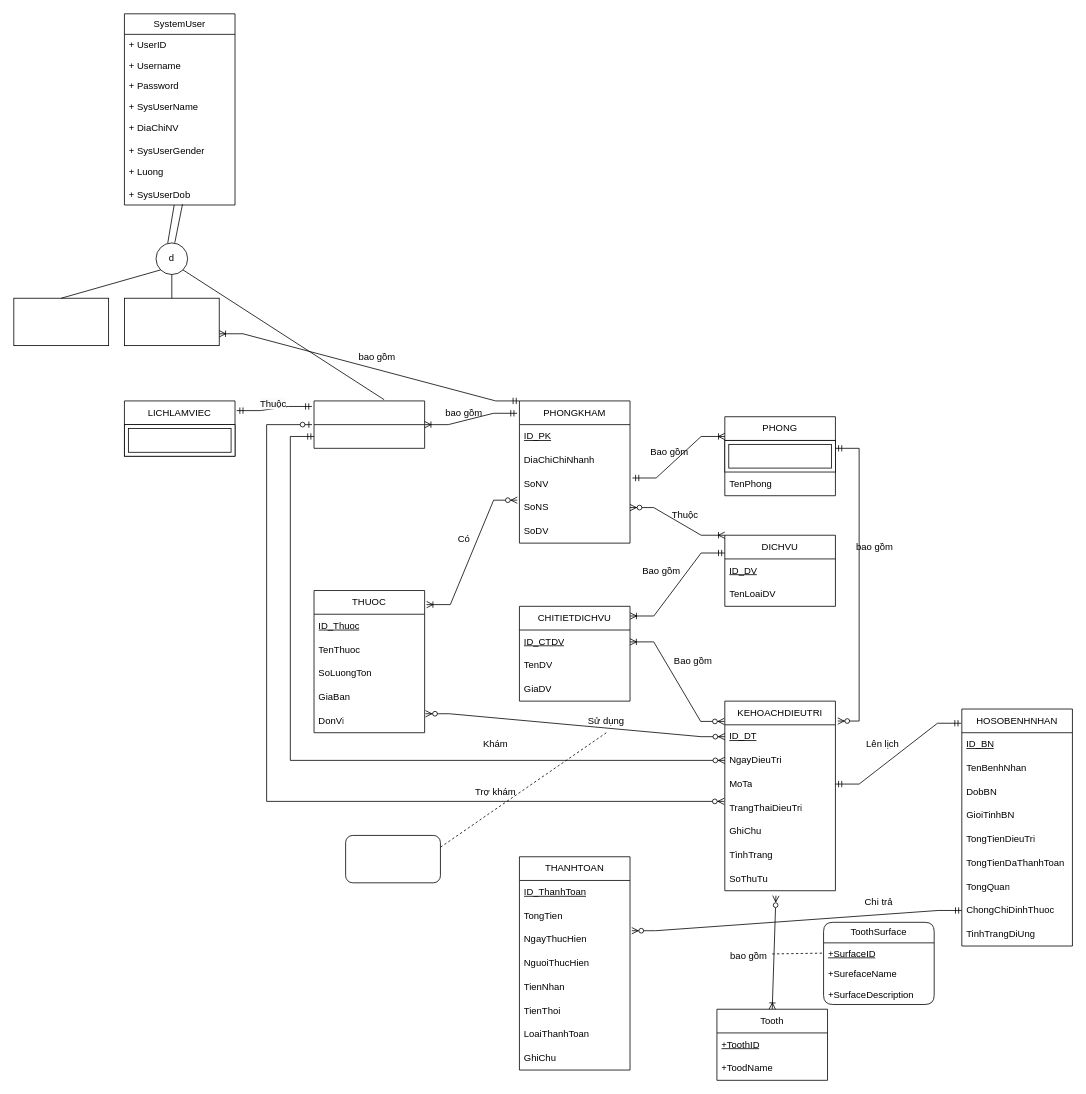
Some shapes in this 1086 by 1094 pixel diagram are drawn without their labels. Each missing label, with the centre of its shape:
Admin: point (61, 321)
Amount: point (392, 859)
ID_PHONG: point (779, 456)
NHASI: point (369, 424)
Staff: point (171, 321)
ThoiGianLamViec: point (179, 440)
